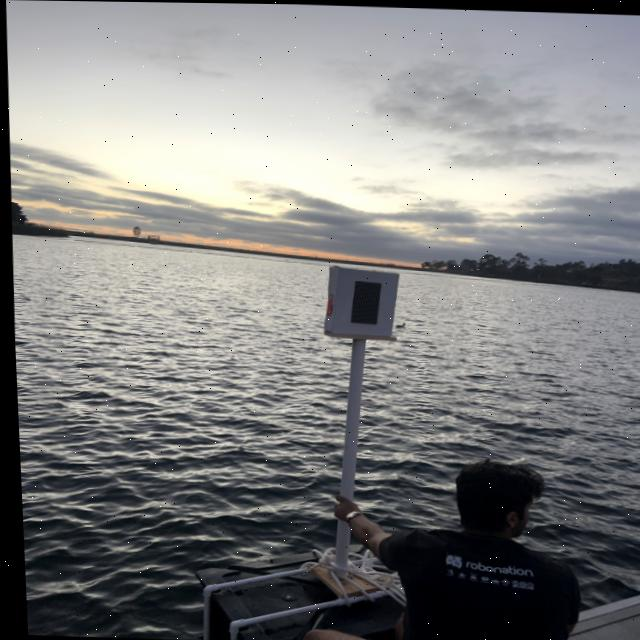led: (336, 267, 392, 337)
